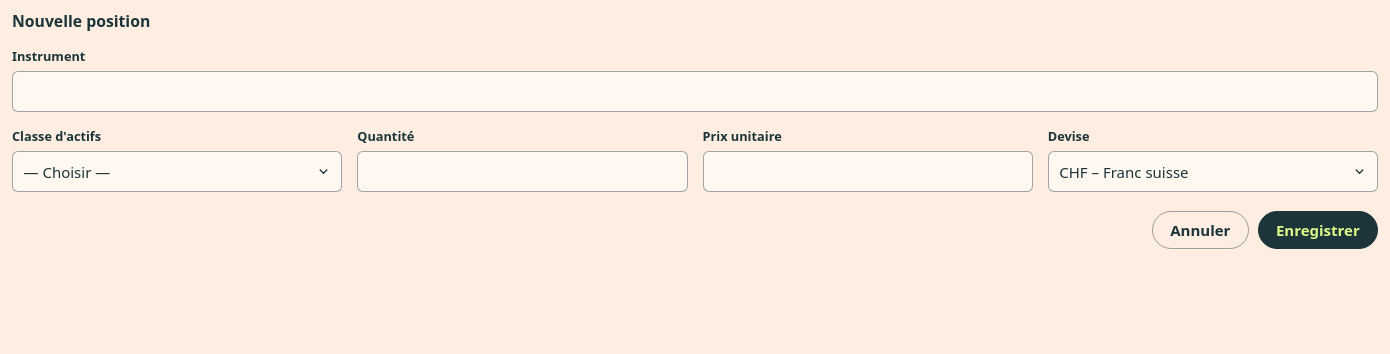
Test: PositionForm › efface l’erreur d’un champ dès qu’il est modifié
Click the button "Enregistrer" at (1318, 230), box x1=1258 y1=211 x2=1378 y2=249
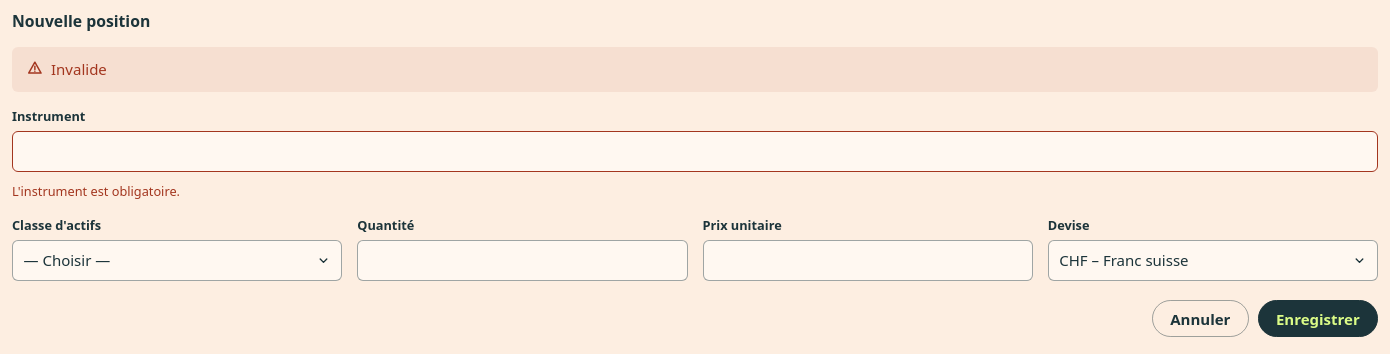
Expected: the text "L'instrument est obligatoire." is shown, x1=12 y1=182 x2=180 y2=200
Type "X" into the field labelled "Instrument" at (695, 152), box x1=12 y1=131 x2=1378 y2=172
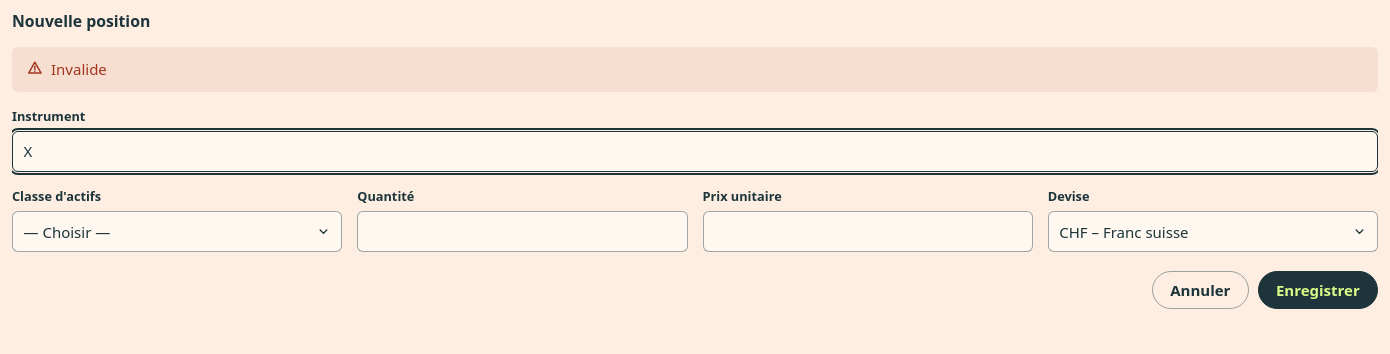
Expected: the text "L'instrument est obligatoire." is gone
